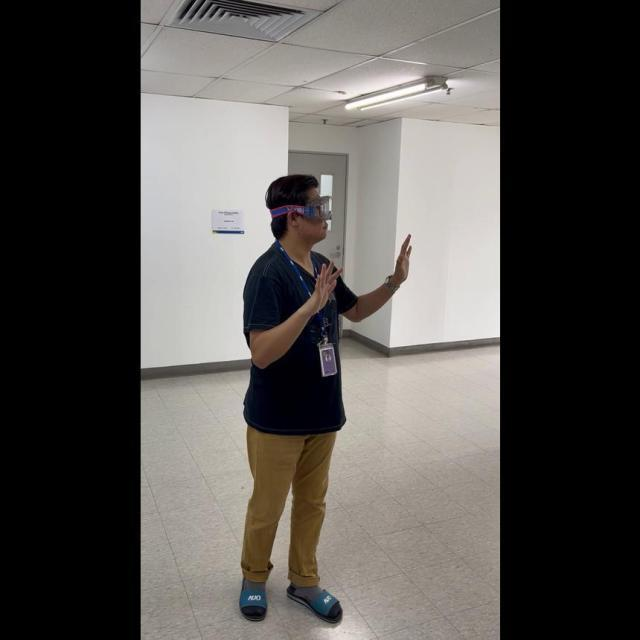bare_hand: (304, 254, 343, 305), (387, 228, 412, 288)
